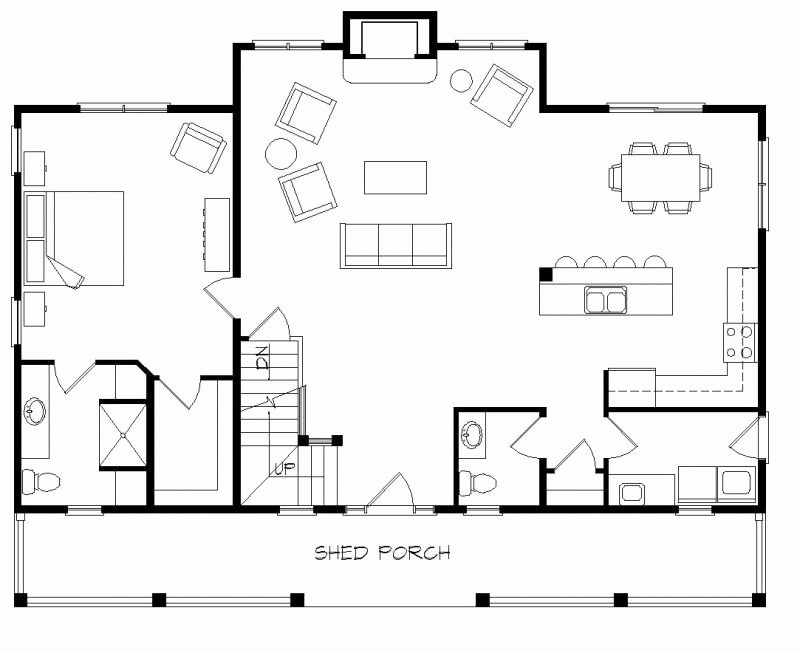door: (184, 275, 230, 320), (367, 469, 425, 501), (723, 418, 759, 459), (501, 417, 537, 458), (610, 416, 642, 462), (158, 383, 204, 411), (553, 436, 599, 464), (249, 305, 295, 333), (54, 368, 100, 396)
room: (224, 4, 773, 420), (9, 100, 244, 383), (13, 356, 158, 522), (598, 401, 770, 519), (140, 371, 247, 519), (450, 403, 549, 516)
window: (75, 94, 175, 121), (600, 96, 706, 120), (749, 135, 773, 234), (452, 34, 531, 60), (250, 36, 328, 59), (5, 123, 29, 179), (3, 297, 27, 349), (64, 500, 105, 519), (674, 503, 715, 522), (463, 501, 504, 520), (275, 500, 316, 519)
